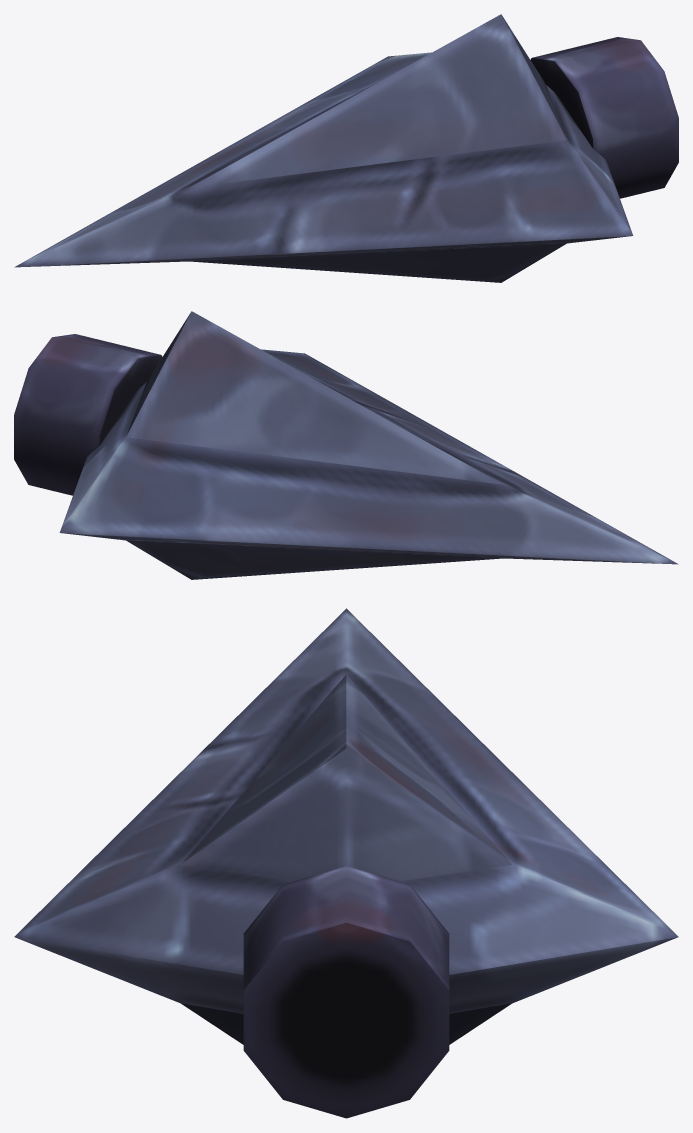
File: wheel_spike.fbx
3 views of the same model, one above another, from view 1: azimuth 30°, elevation 25°; view 2: azimuth 150°, elevation 25°; view 3: azimuth 270°, elevation 25° (orthographic). The views are drawn at different scales.
Visible parts, largest first — view 1: wheel_spike; view 2: wheel_spike; view 3: wheel_spike.
Part boxes in pixels (box(x1,y1,x2,y2)): wheel_spike: box(14, 14, 678, 282); wheel_spike: box(14, 311, 678, 579); wheel_spike: box(14, 608, 678, 1118).
Size of the model in its own units: 0.5009 by 0.2052 by 0.3393.
